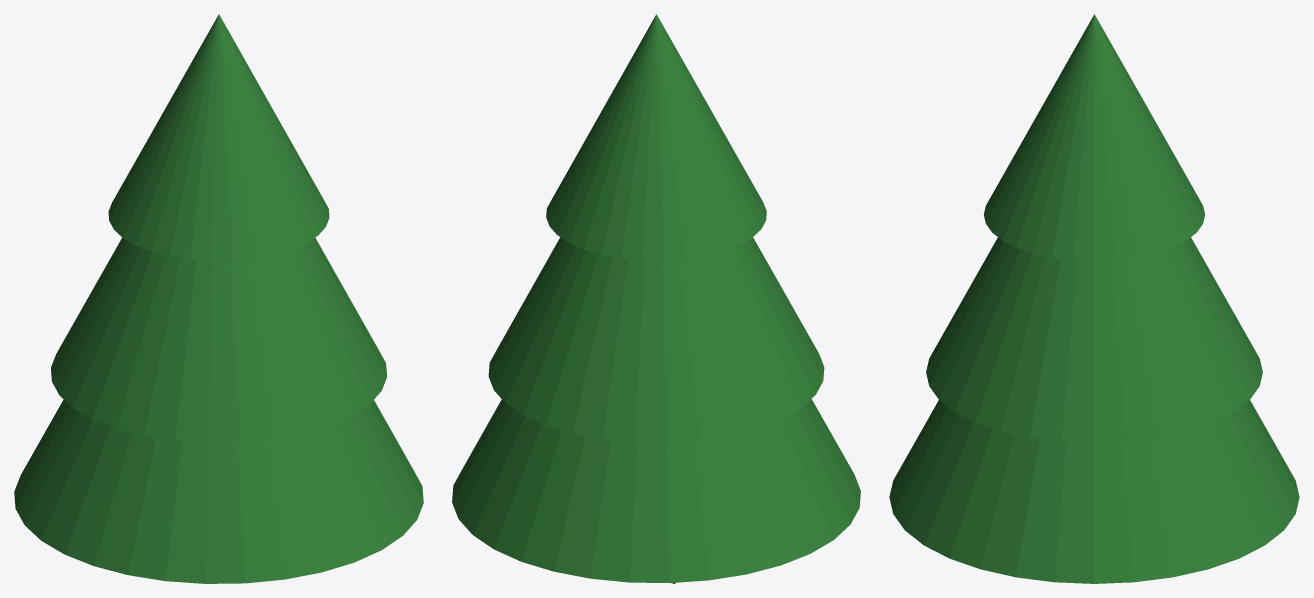
The model's file is Tree2.fbx.
3 renders of one model, left to right at view 1: azimuth 30°, elevation 25°; view 2: azimuth 150°, elevation 25°; view 3: azimuth 270°, elevation 25°, orthographic.
Visible parts, largest first — view 1: Cone.002, Cone.001, Cone; view 2: Cone.002, Cone.001, Cone; view 3: Cone.002, Cone.001, Cone.
Boxes of the visible parts, bbox=[...] form: Cone.002: bbox=[14, 399, 423, 583]; Cone.001: bbox=[51, 237, 386, 443]; Cone: bbox=[108, 14, 329, 261]; Cone.002: bbox=[452, 399, 860, 582]; Cone.001: bbox=[488, 237, 824, 442]; Cone: bbox=[546, 14, 766, 260]; Cone.002: bbox=[889, 400, 1299, 583]; Cone.001: bbox=[926, 237, 1262, 443]; Cone: bbox=[983, 14, 1205, 261].
Bounding box in the file's own units: 282 × 414 × 282.
